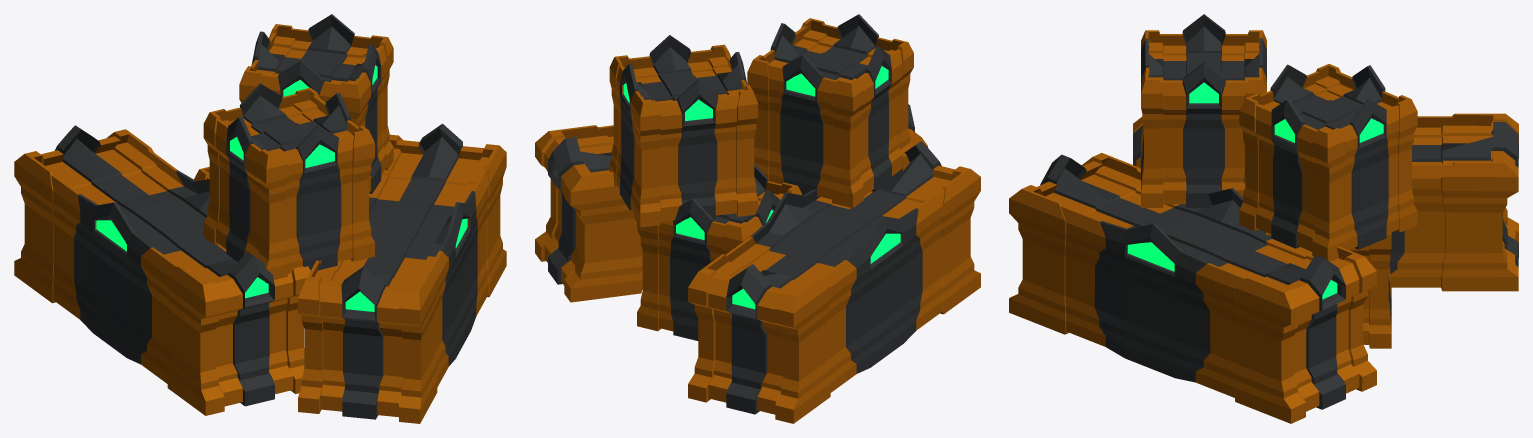
File: shippingcratepile.fbx
The picture shows the model from 3 angles, left to right: view 1: azimuth 30°, elevation 25°; view 2: azimuth 150°, elevation 25°; view 3: azimuth 270°, elevation 25°; orthographic projection. The views are drawn at different scales.
Parts seen in each view (by area): view 1: Cube.048, Cube.049, Cube.051, Cube.052; view 2: Cube.048, Cube.051, Cube.052, Cube.049, Cube.050; view 3: Cube.049, Cube.052, Cube.048, Cube.051, Cube.050.
Boxes of the visible parts, box(x1,y1,x2,y2) form: Cube.048: box(14, 125, 310, 415); Cube.049: box(298, 123, 506, 423); Cube.051: box(203, 83, 374, 282); Cube.052: box(239, 14, 393, 193); Cube.048: box(688, 141, 980, 423); Cube.051: box(747, 14, 913, 208); Cube.052: box(609, 35, 758, 227); Cube.049: box(535, 104, 927, 302); Cube.050: box(637, 164, 801, 340); Cube.049: box(1009, 153, 1376, 423); Cube.052: box(1239, 64, 1417, 261); Cube.048: box(1133, 113, 1518, 291); Cube.051: box(1141, 14, 1266, 207); Cube.050: box(1265, 232, 1391, 348).
Size of the model in its own units: 699 by 452 by 809.
